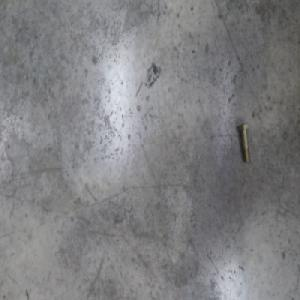Bolt: (238, 121, 251, 163)
